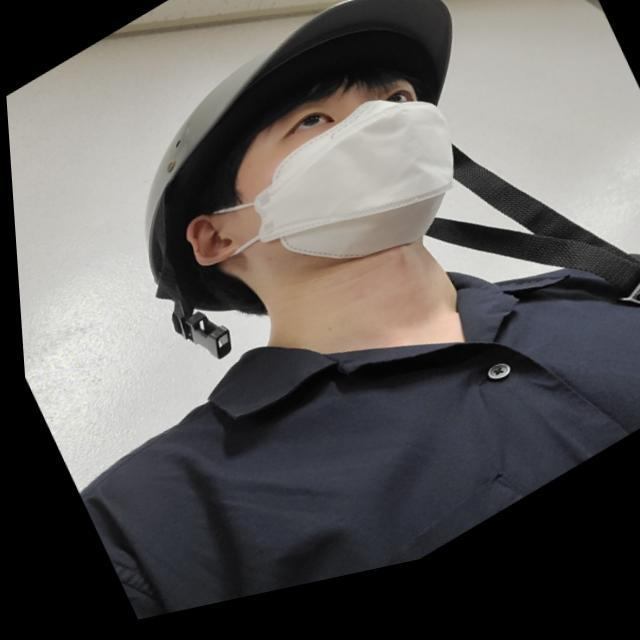Helmet: (123, 0, 501, 326)
